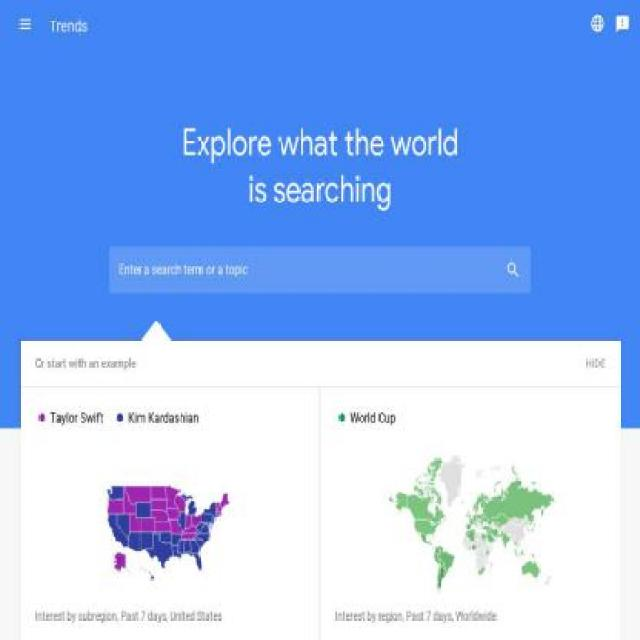button: (19, 387, 321, 639), (319, 387, 621, 639), (256, 293, 384, 429), (49, 6, 88, 46), (9, 3, 40, 43), (610, 5, 635, 41), (585, 7, 610, 39), (586, 356, 606, 370)
field: (109, 253, 531, 287)
